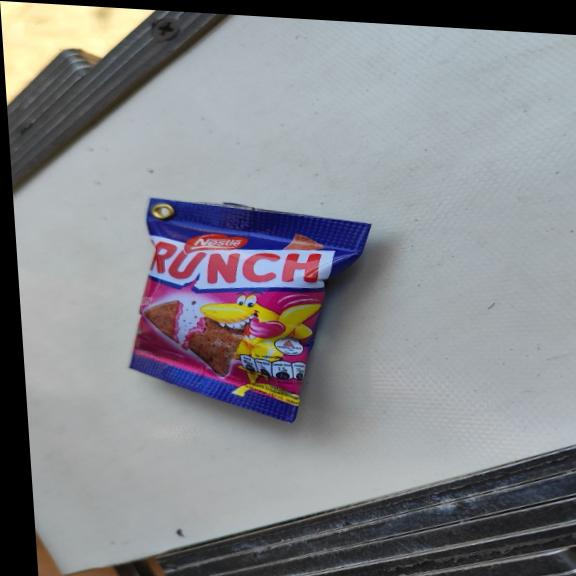Plastik: (116, 194, 385, 428)
